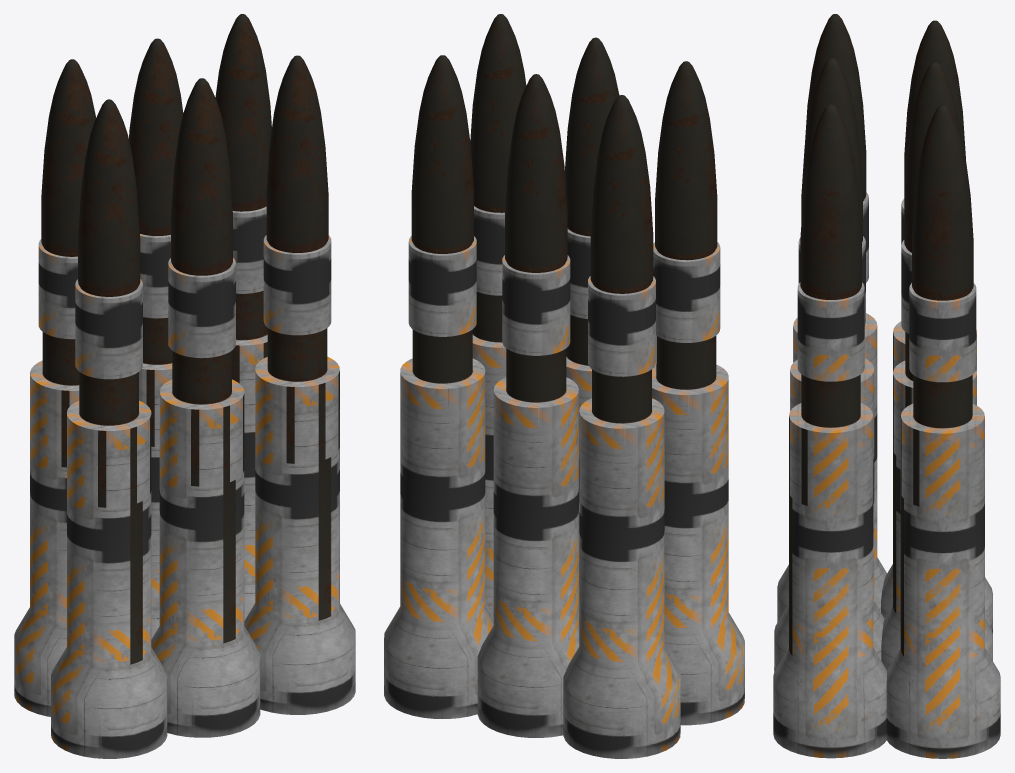
File: rocket_pickup.fbx
3 renders of one model, left to right at view 1: azimuth 30°, elevation 25°; view 2: azimuth 150°, elevation 25°; view 3: azimuth 270°, elevation 25°, orthographic.
Visible parts, largest first — view 1: PickUpRockets; view 2: PickUpRockets; view 3: PickUpRockets.
Part boxes in pixels (x1,y1,x2,y2): PickUpRockets: (14,14,355,758); PickUpRockets: (384,14,744,758); PickUpRockets: (773,14,1000,758).
Bounding box in the file's own units: 81.21 × 171 × 55.88.
Materials: 1 (1 with a texture image).
